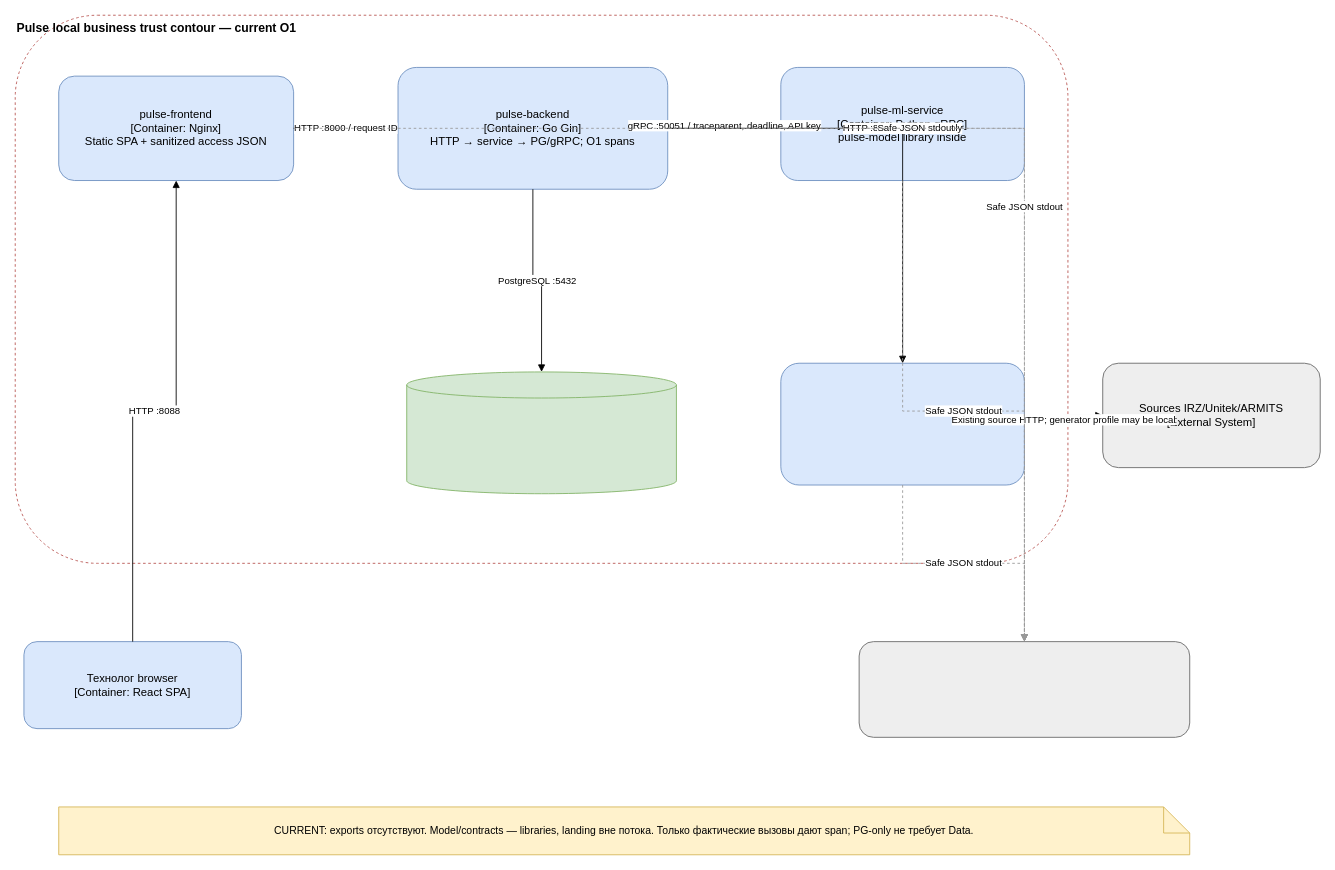
The diagram is 1335 pixels wide and 870 high, and some of its shapes have lost their labels. The centre of each missing label's shape, as x and y in pixels:
O1 stdout [Operational destination] Four JSON streams / Docker local driver: [1024,689]
PostgreSQL [Container: database] Business authority / audit / idempotency: [541,432]
pulse-data [Container: Python HTTP / source adapter] Separate collection flow: [902,423]
